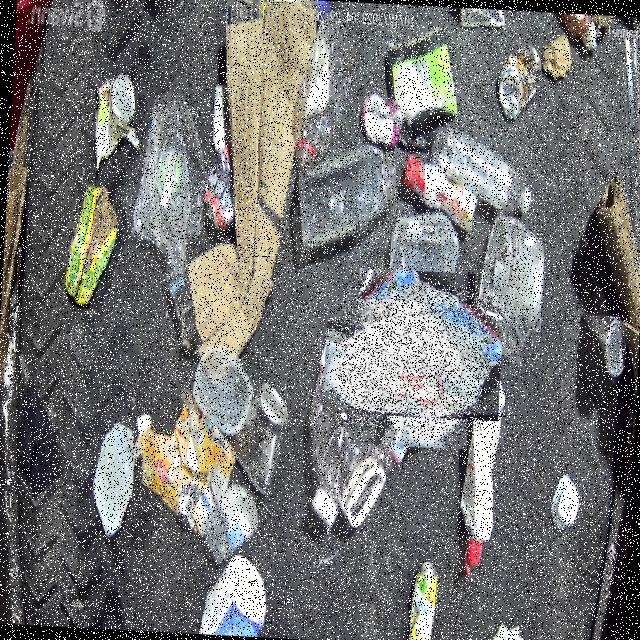milk-jug: (336, 282, 488, 434)
